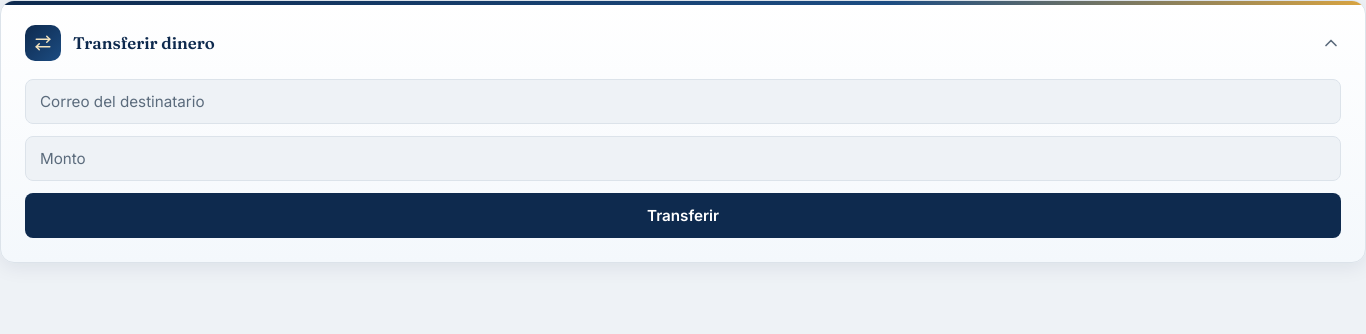
Scenario: FormularioTransferencia › muestra el error del backend cuando la transaccion falla por saldo insuficiente
The image size is (1366, 334).
Type "felipe@cbank.cl" into the field with placeholder "Correo del destinatario". click: (683,102)
box: left=25, top=79, right=1341, bottom=124
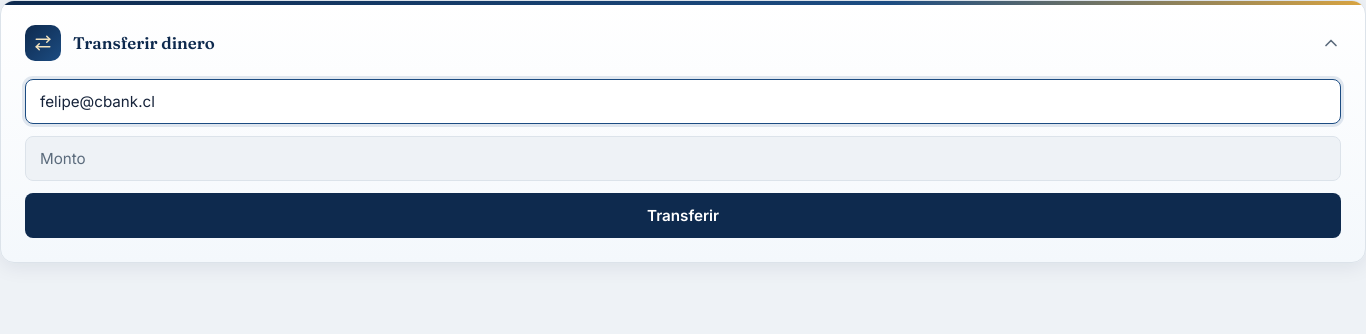
Type "10000" into the number field with placeholder "Monto". click: (683,158)
box: left=25, top=136, right=1341, bottom=181
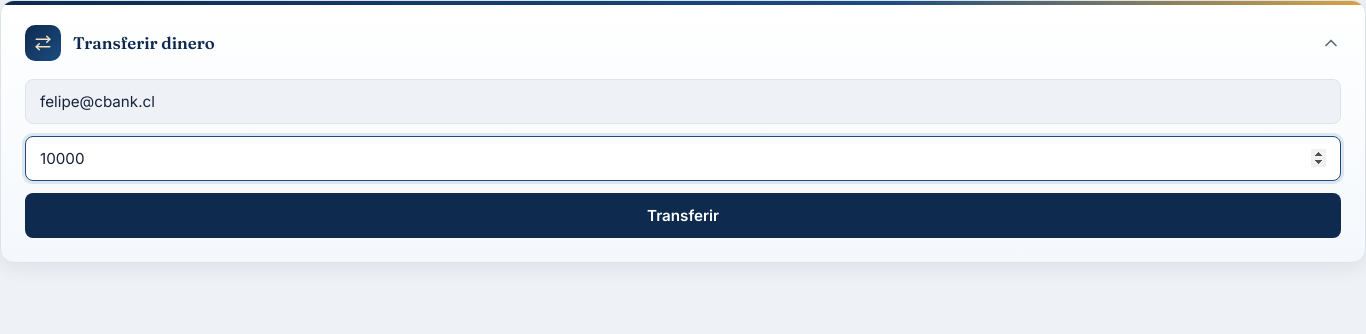
Click the button "Transferir". click: (683,216)
box: left=25, top=193, right=1341, bottom=238
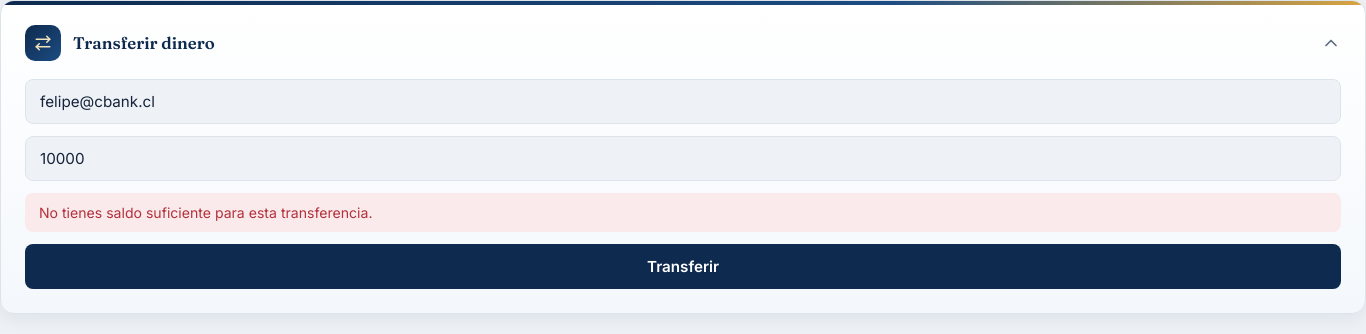
expect the text "No tienes saldo suficiente para esta transferencia." is shown: met, box left=25, top=193, right=1341, bottom=232
